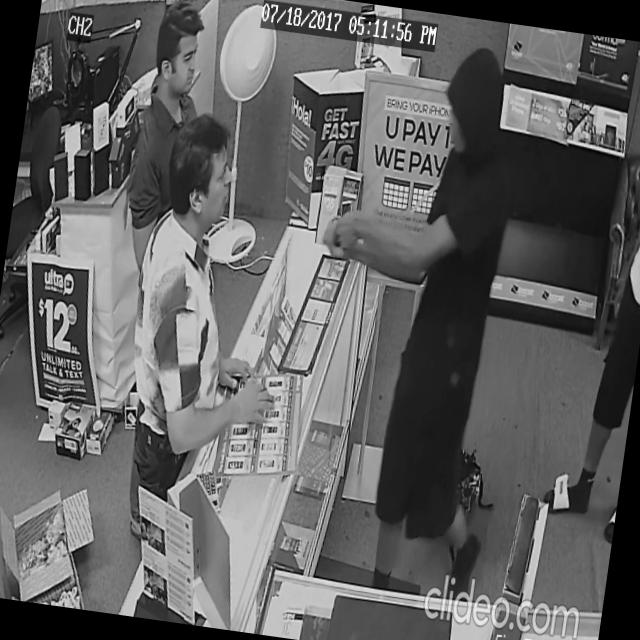gun: (312, 201, 374, 269)
person: (104, 109, 313, 552), (116, 0, 220, 281)
person with a gun: (276, 26, 552, 601)
